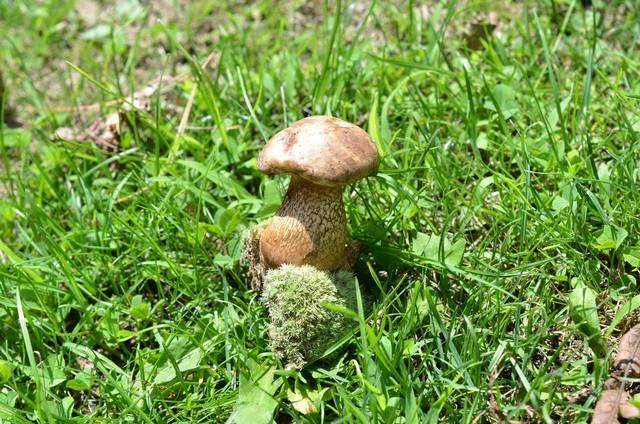poisonous_mushroom: (241, 113, 380, 290)
